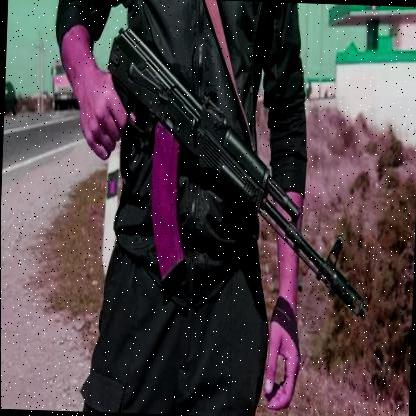rifle: (89, 23, 377, 321)
